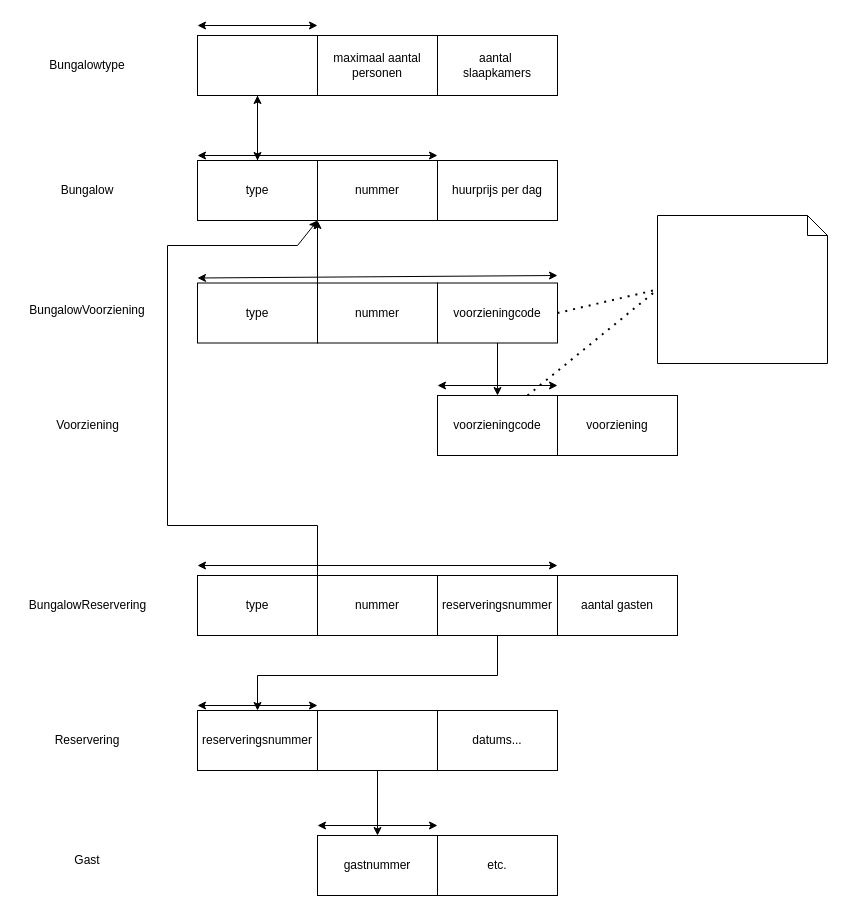
Image size: 845x913. Some labels were removed from this diagram. Here are the shapes that lost their labels. From the top down, the centre of each, then its label:
[257,65]: naam
[742,289]: Het lijkt me beter om een surrogaatsleutel te introduceren voor de voorziening
[377,740]: hoofdhuurder
